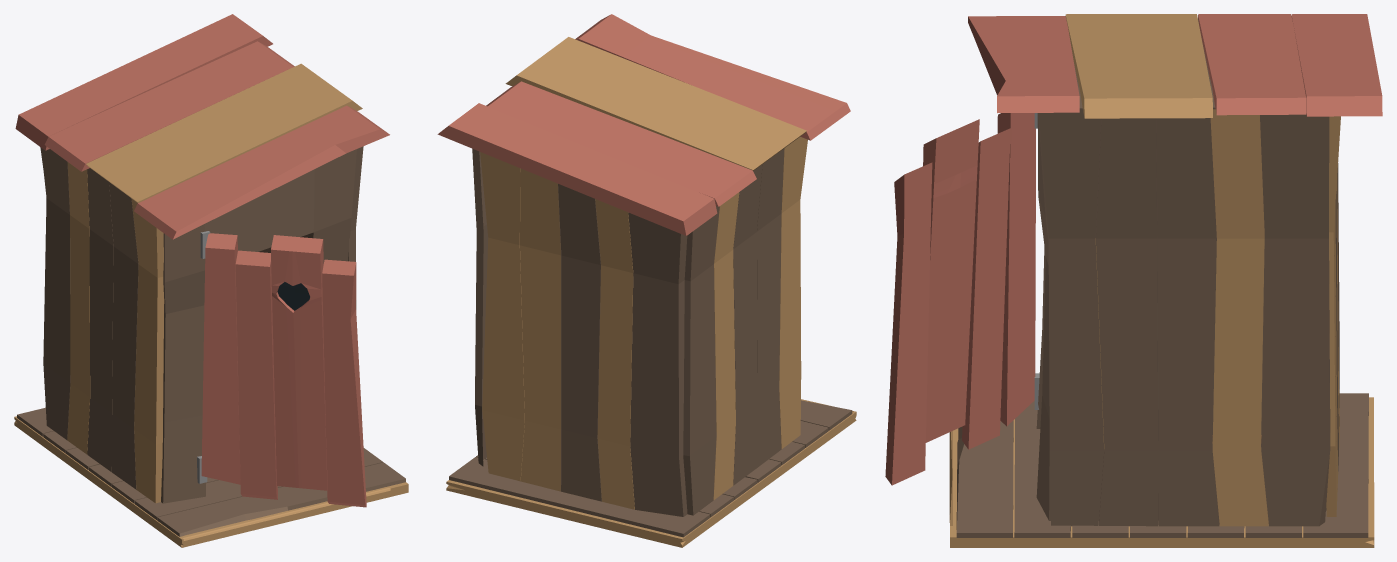
Rendered from Building_Toilet.fbx.
3 renders of one model, left to right at view 1: azimuth 30°, elevation 25°; view 2: azimuth 150°, elevation 25°; view 3: azimuth 270°, elevation 25°, orthographic. The views are drawn at different scales.
Parts seen in each view (by area): view 1: Building_Toilet; view 2: Building_Toilet; view 3: Building_Toilet.
Part boxes in pixels (x1,y1,x2,y2): Building_Toilet: [14, 14, 408, 547]; Building_Toilet: [437, 14, 856, 547]; Building_Toilet: [885, 14, 1382, 547].
Bounding box in the file's own units: 263 × 377 × 376.
